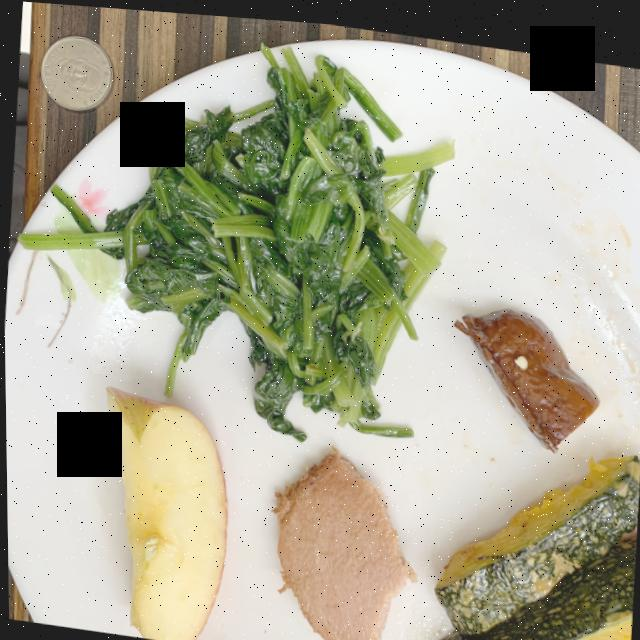Spam: (272, 447, 414, 640)
apple -sliced-: (104, 384, 225, 640)
coin: (39, 34, 111, 109)
firm tofu: (452, 301, 597, 443)
mustard greens: (19, 40, 452, 437)
pumpkin: (432, 445, 639, 640)
